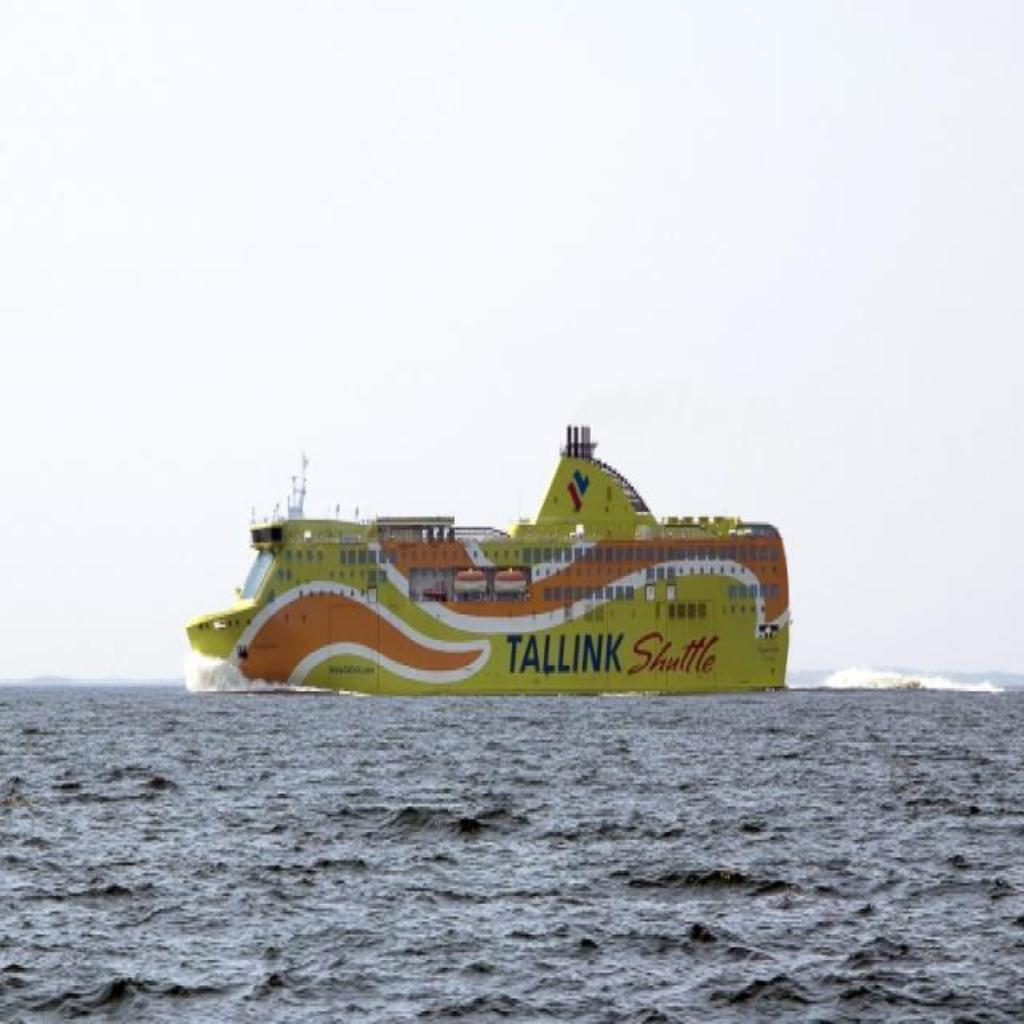PassengerShip: (176, 412, 796, 704)
